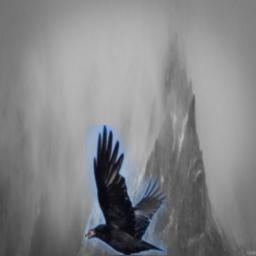Crow: (85, 125, 167, 255)
